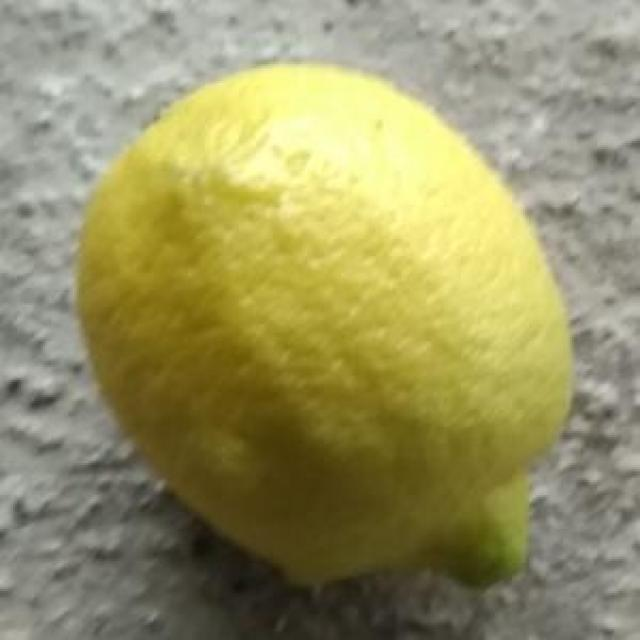lemon: (75, 61, 573, 588)
